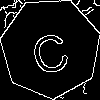C: (26, 23, 73, 77)
